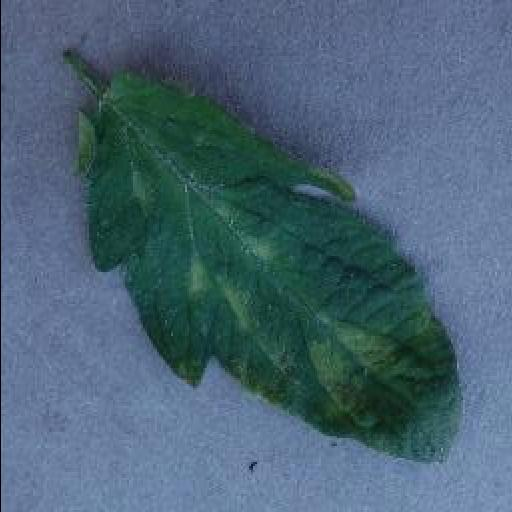disease_tomato: (73, 72, 459, 466)
